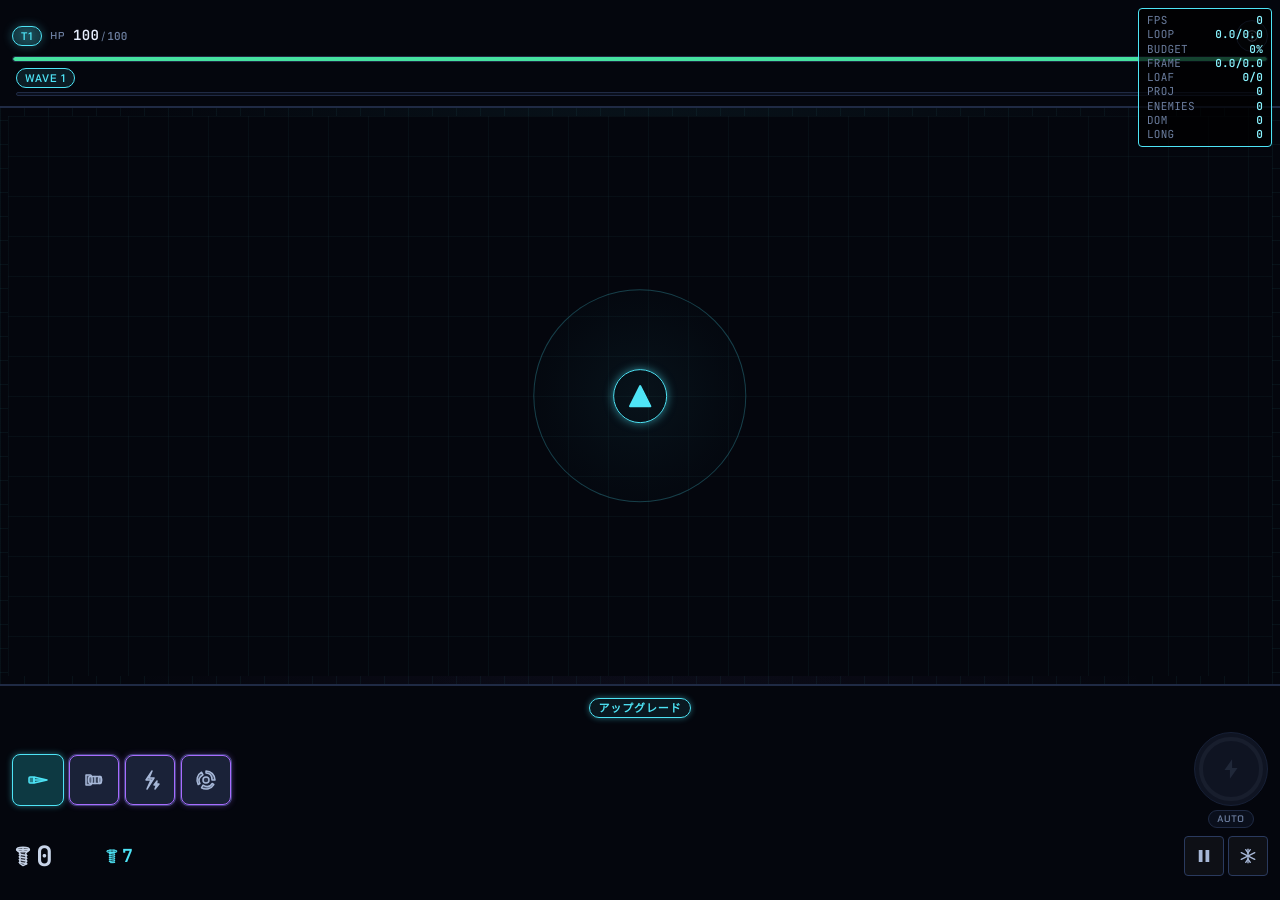
ResultDialog — 獲得 bolt / alloy のスナップショット › 撤退: runStartBolt リセット後も 獲得 bolt は差分を維持
This screenshot has width=1280, height=900.
Click the button named "一時停止 (メニューを開く)" at (1204, 856), box [1184,836,1224,876]
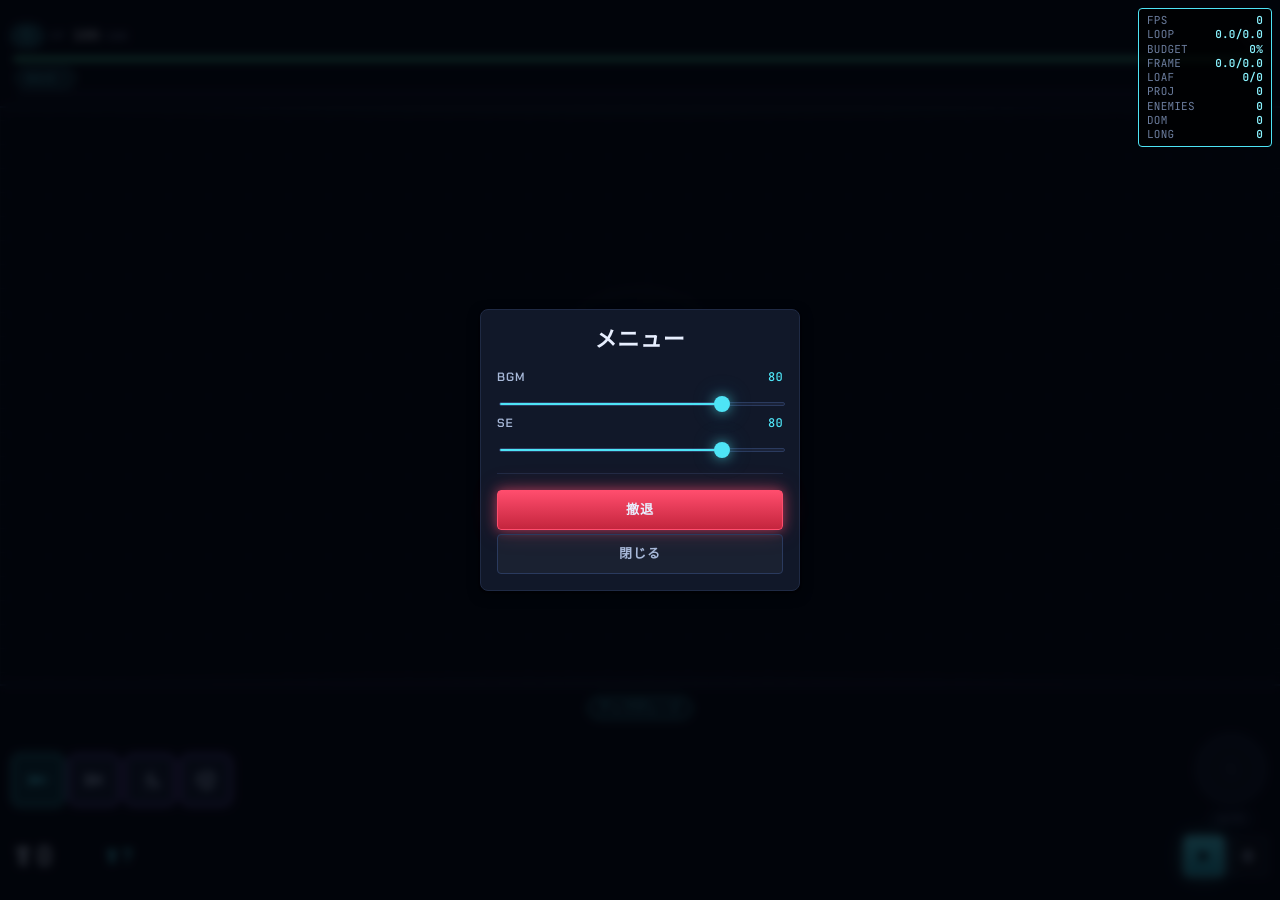
Click the button "撤退" at (640, 510), box [497,490,783,530]
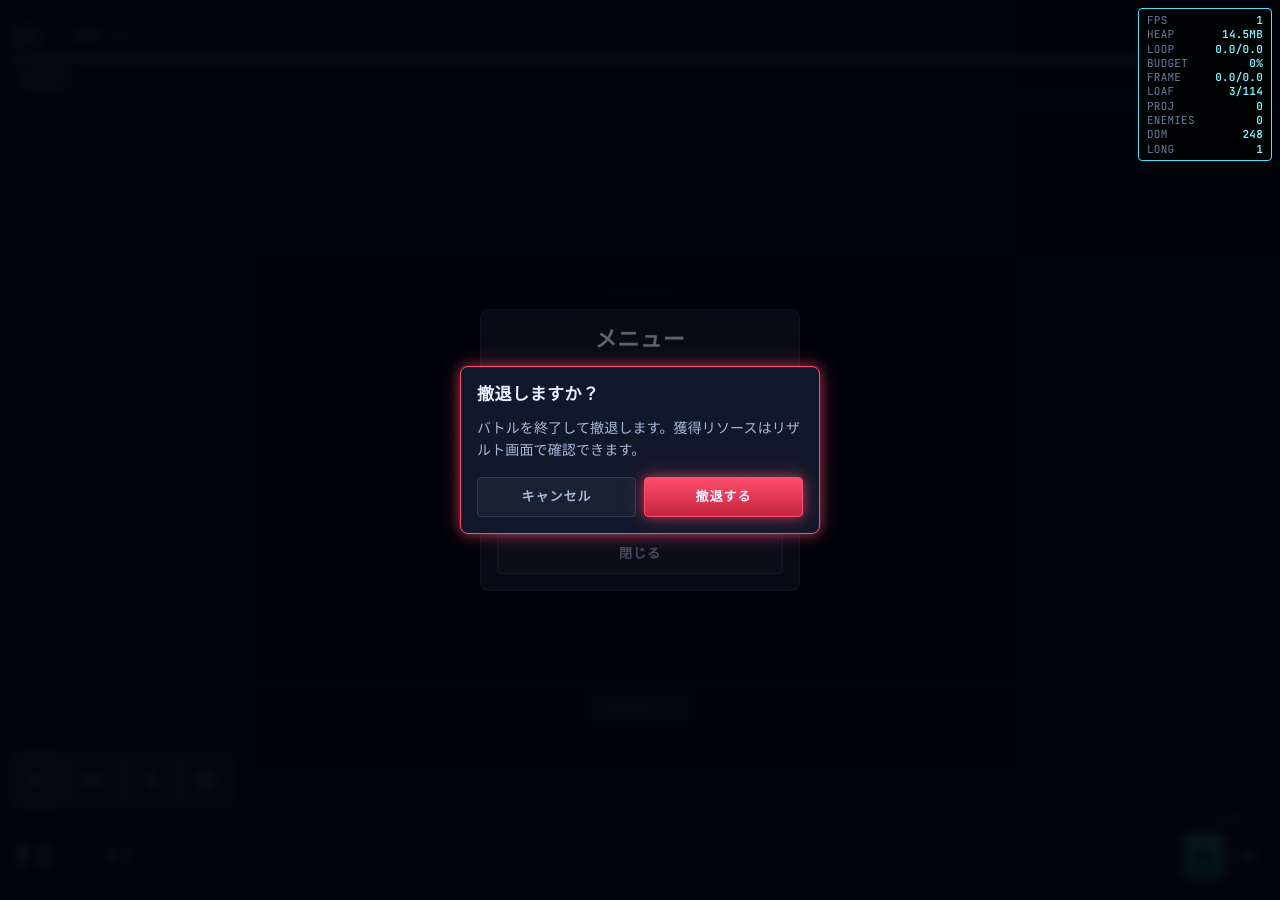
Click the button "撤退する" at (724, 497), box [644,477,803,517]
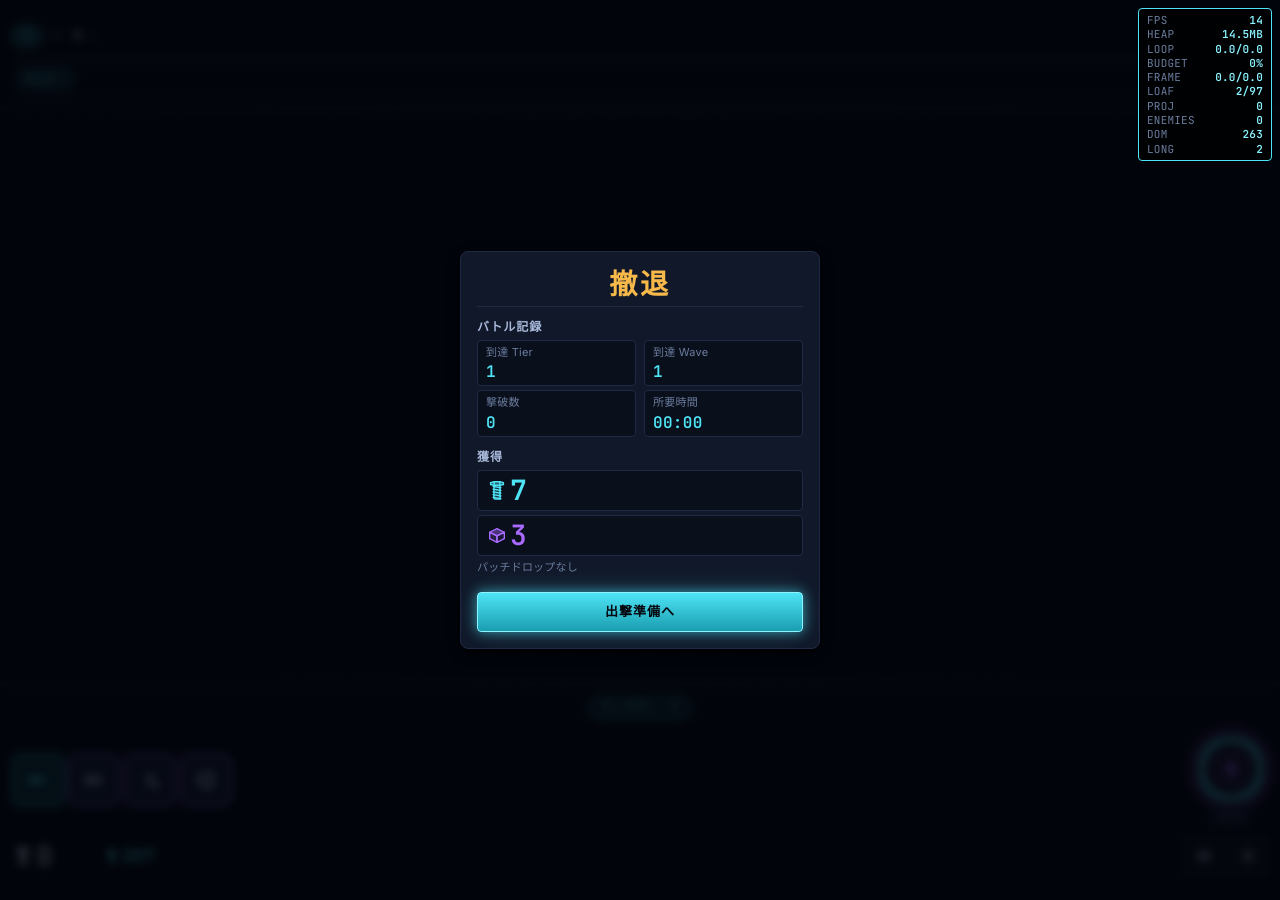
Check: the picture named "bolt 7" is shown, box [486,475,527,505]
Check: the picture named "alloy 3" is shown, box [486,520,527,551]
